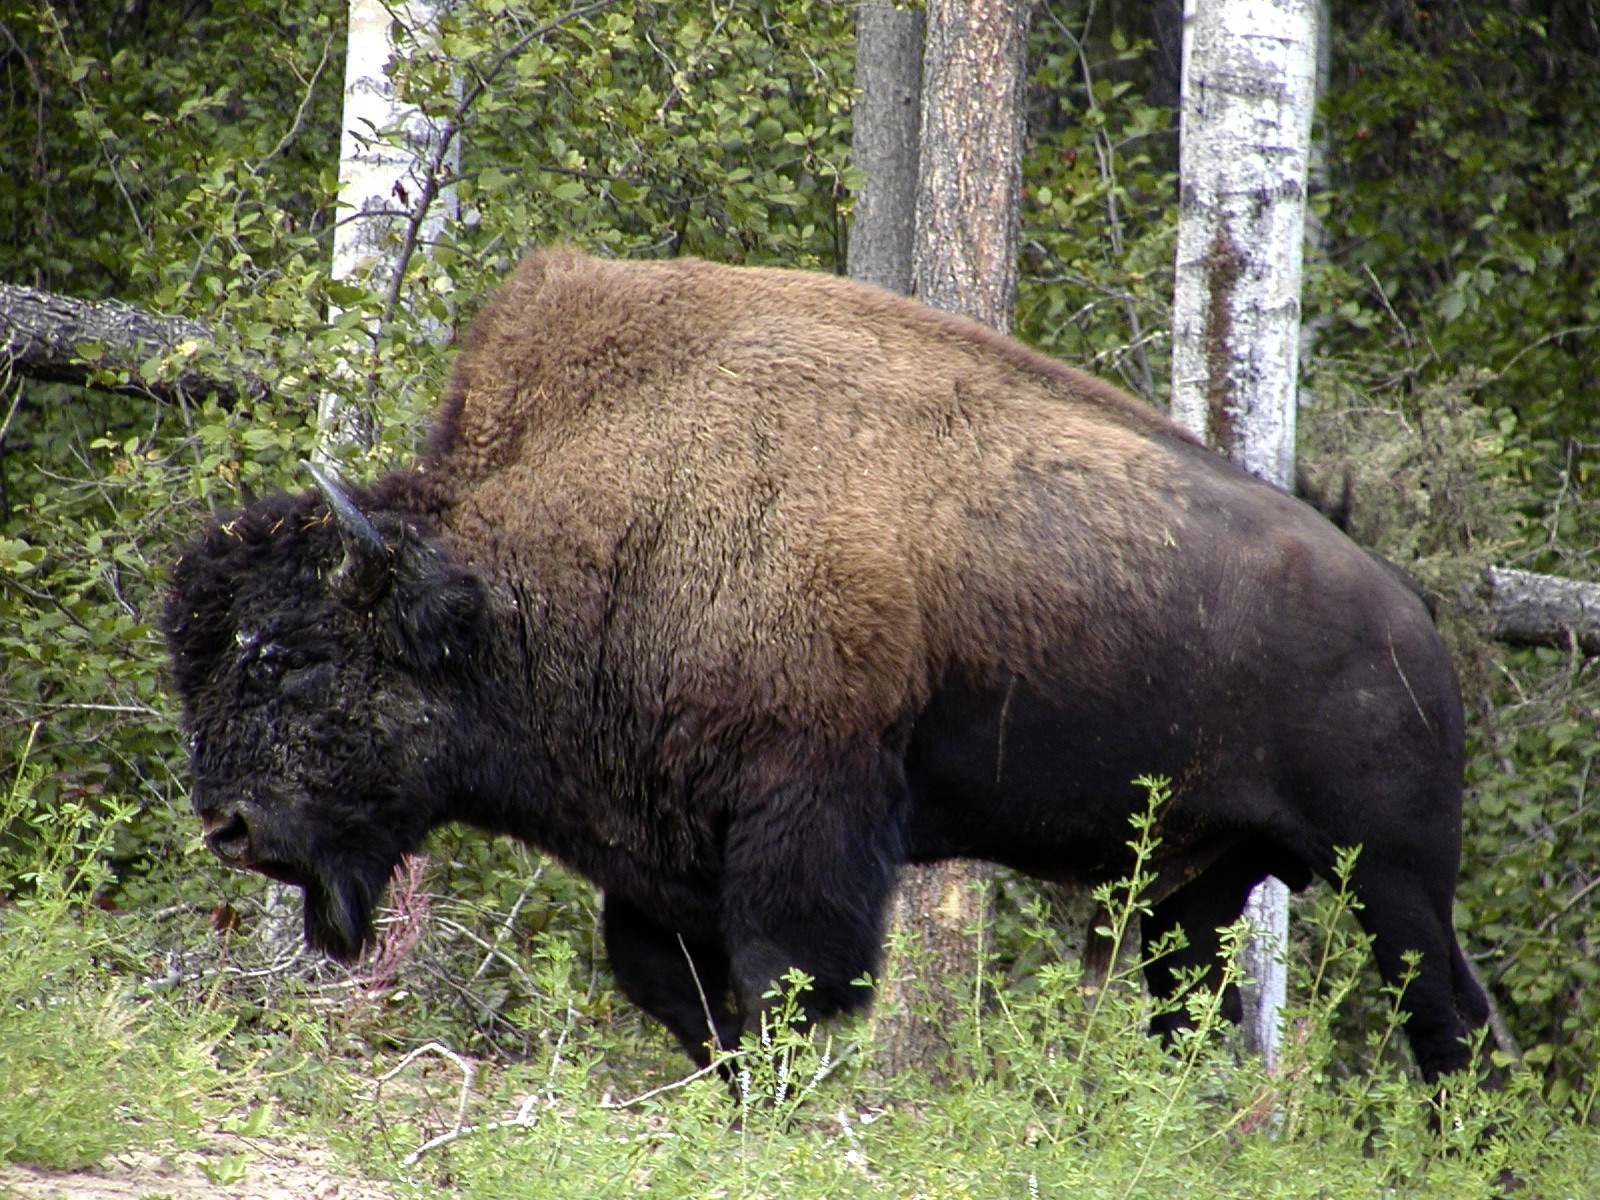zubr: (89, 158, 1599, 1137)
